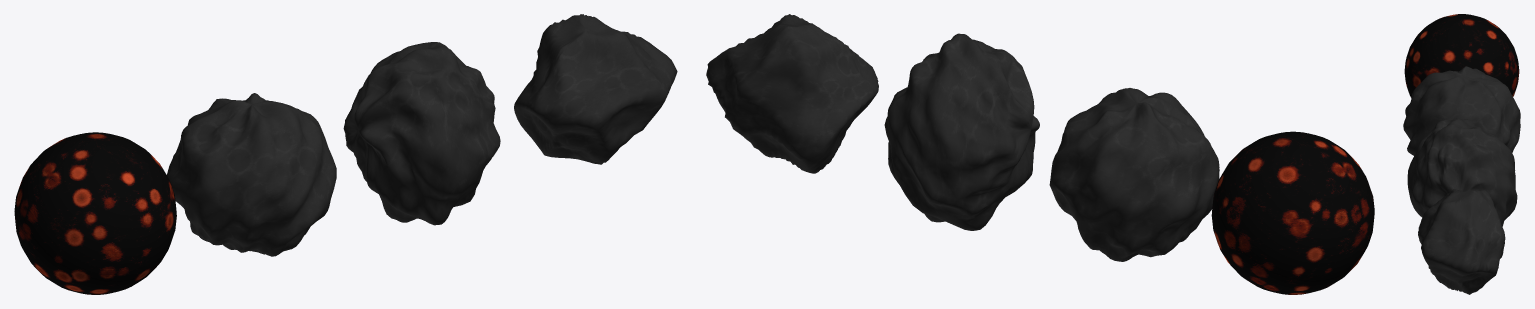
File: Asteroids.obj
The picture shows the model from 3 angles, left to right: view 1: azimuth 30°, elevation 25°; view 2: azimuth 150°, elevation 25°; view 3: azimuth 270°, elevation 25°; orthographic projection. The views are drawn at different scales.
Visible parts, largest first — view 1: Asteroid_1, Asteroid_2, Asteroid_3, Asteroid_4; view 2: Asteroid_3, Asteroid_2, Asteroid_1, Asteroid_4; view 3: Asteroid_3, Asteroid_4, Asteroid_2, Asteroid_1.
Boxes of the visible parts, box(x1,y1,x2,y2) form: Asteroid_1: box(14, 132, 176, 294); Asteroid_2: box(167, 93, 336, 256); Asteroid_3: box(343, 42, 500, 225); Asteroid_4: box(514, 14, 677, 164); Asteroid_3: box(884, 33, 1039, 230); Asteroid_2: box(1049, 88, 1219, 261); Asteroid_1: box(1211, 131, 1374, 294); Asteroid_4: box(706, 14, 878, 173); Asteroid_3: box(1407, 118, 1517, 226); Asteroid_4: box(1418, 189, 1505, 294); Asteroid_2: box(1403, 66, 1520, 155); Asteroid_1: box(1404, 14, 1519, 97).
Size of the model in its own units: 46.18 by 12.07 by 10.24.
4 materials, 4 textured.
